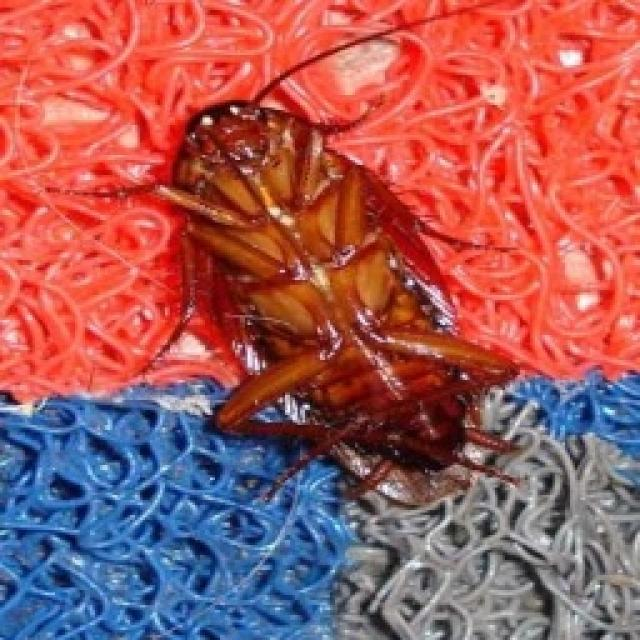cockroach: (156, 96, 524, 509)
